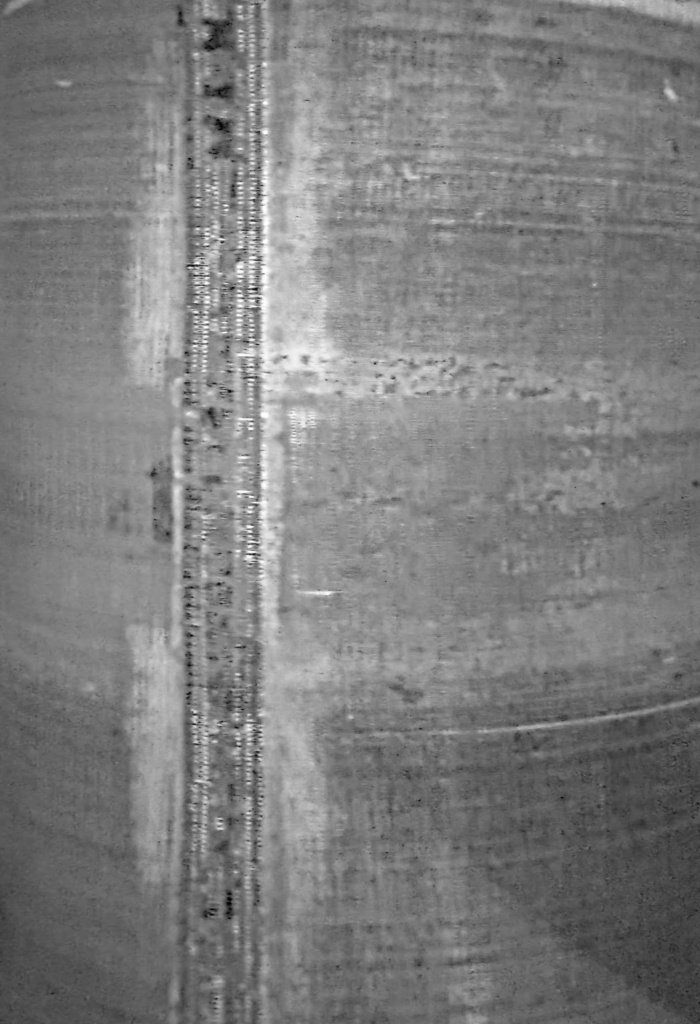splice: (173, 4, 270, 1024)
